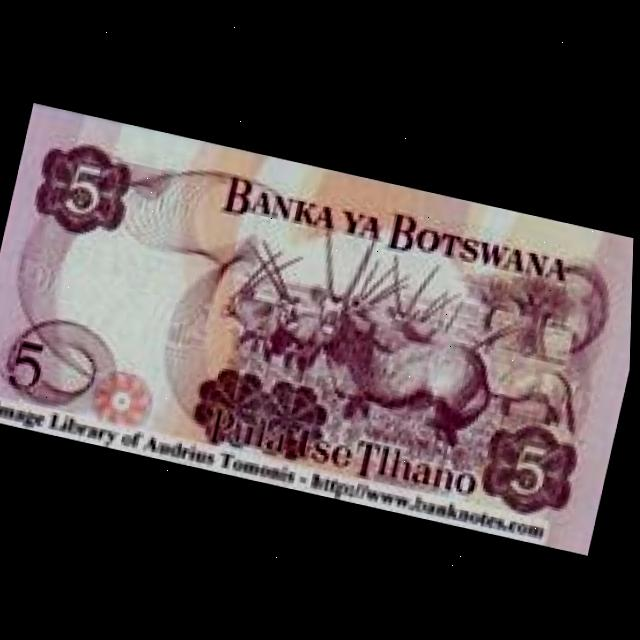banknote: (0, 105, 638, 552)
